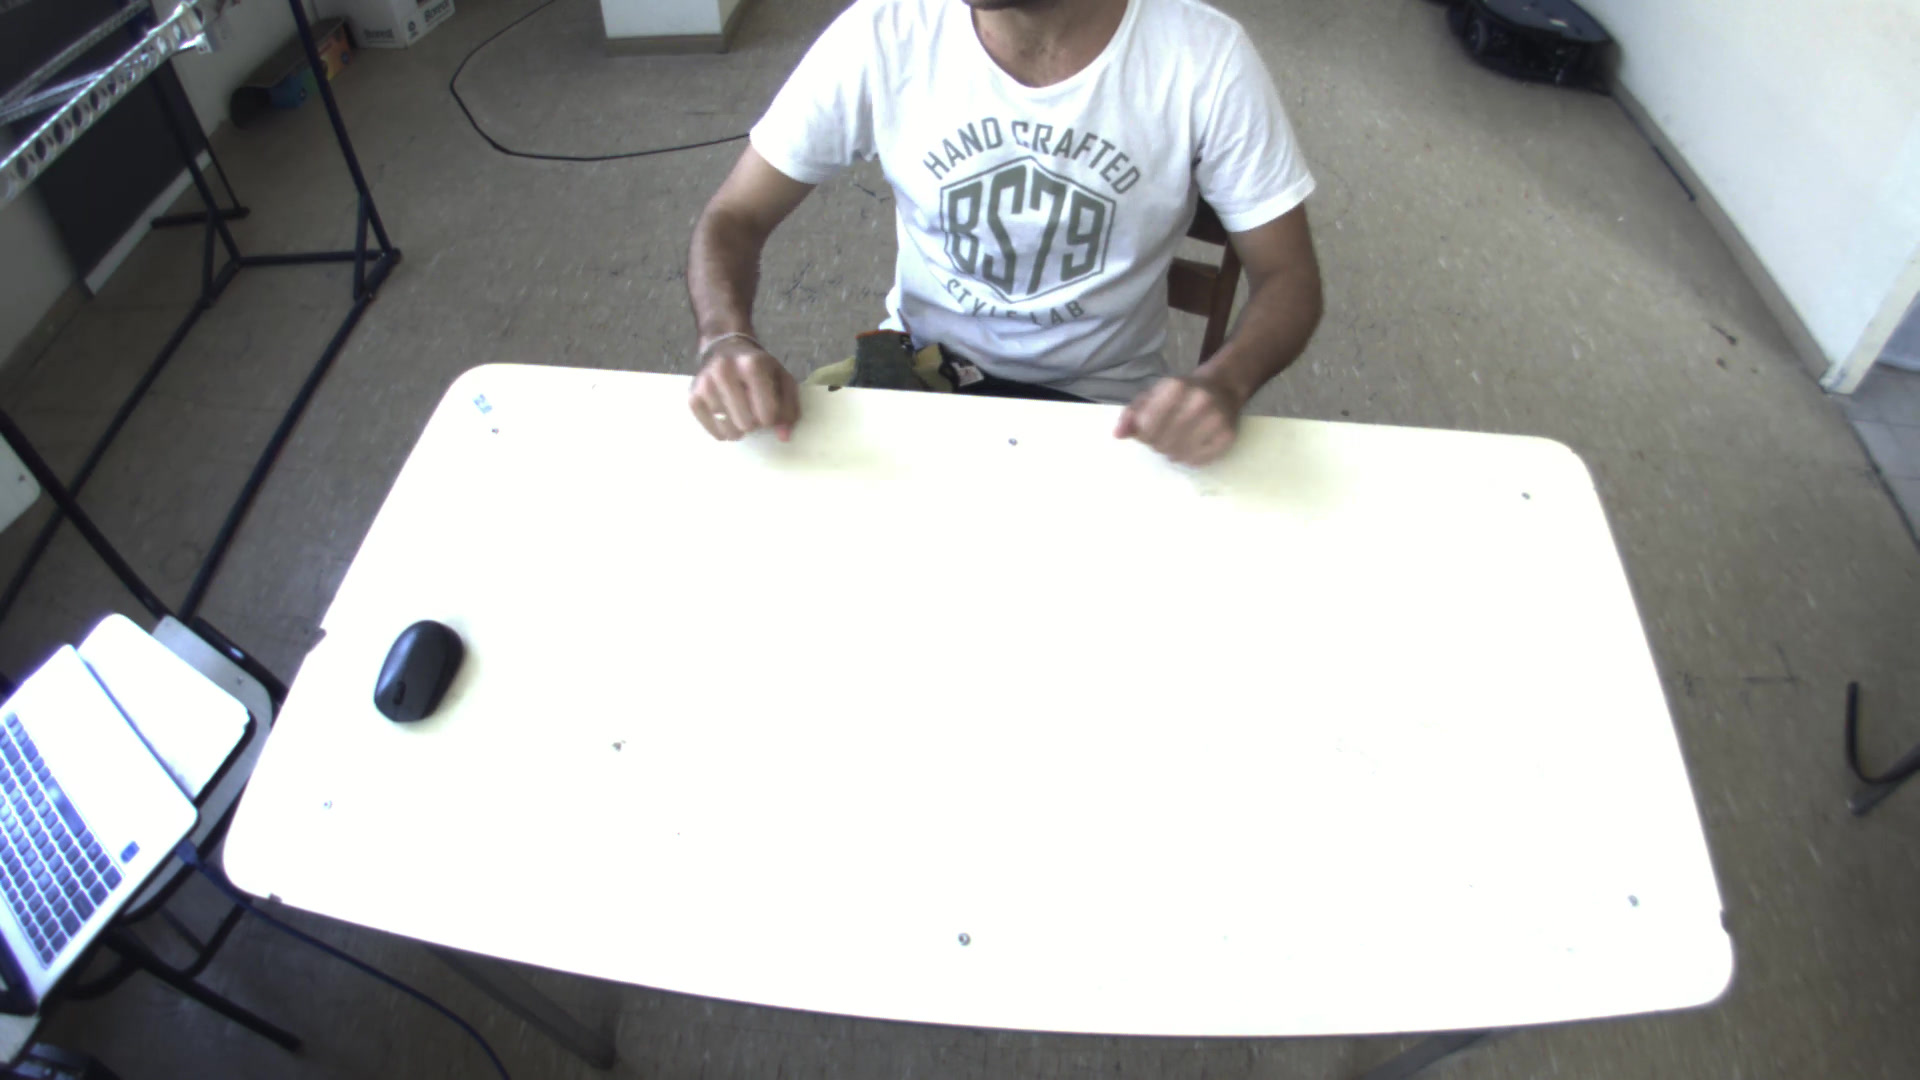hand: (1104, 355, 1255, 467), (673, 316, 808, 440)
